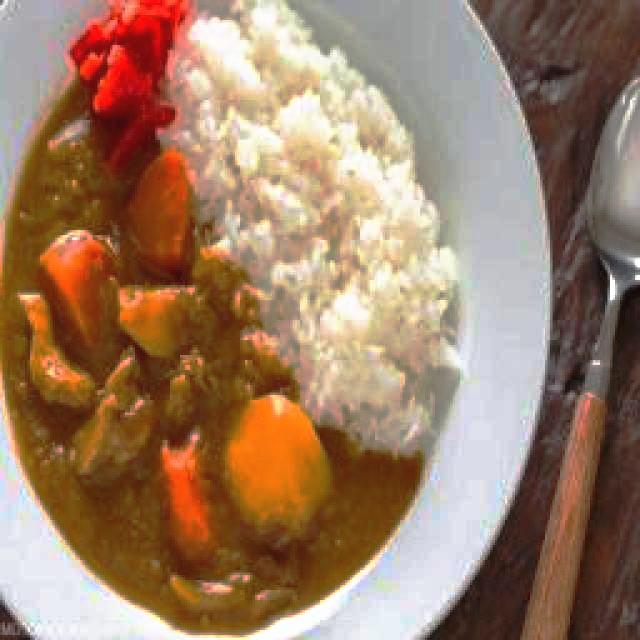curry: (8, 121, 424, 624)
rice: (168, 2, 464, 452)
